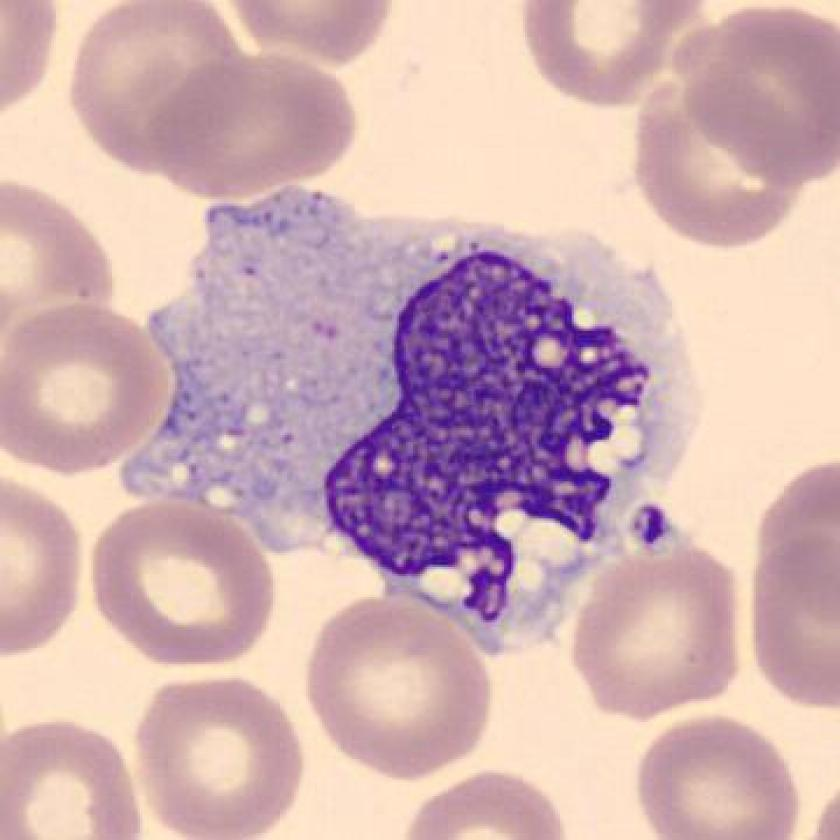monocyte: (109, 163, 725, 677)
